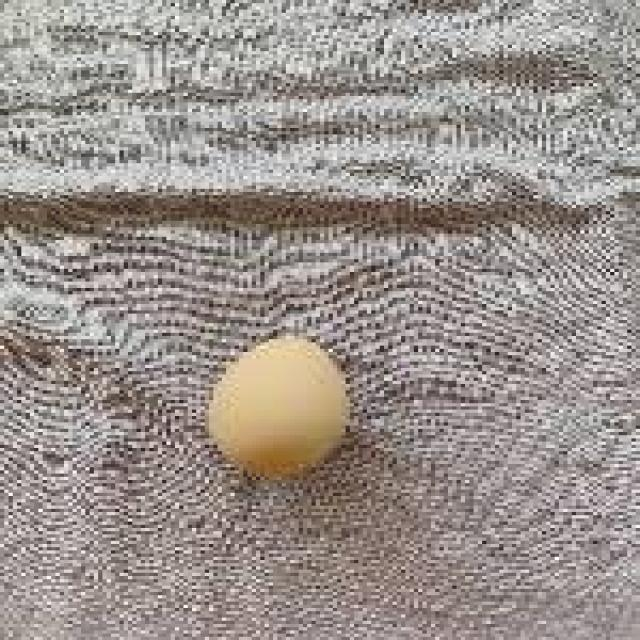telur: (203, 322, 359, 500)
